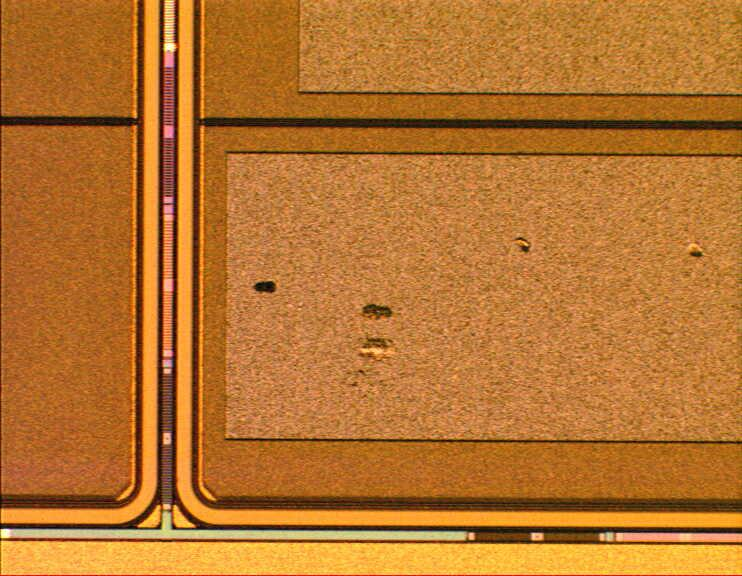SCRATCH: (324, 295, 427, 399)
